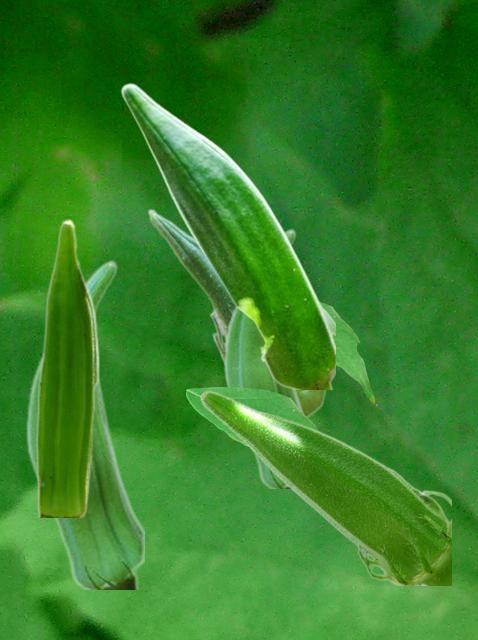okra: (120, 83, 334, 388), (199, 390, 450, 584), (25, 259, 143, 588), (147, 208, 326, 418), (223, 228, 307, 487), (36, 218, 99, 516)
